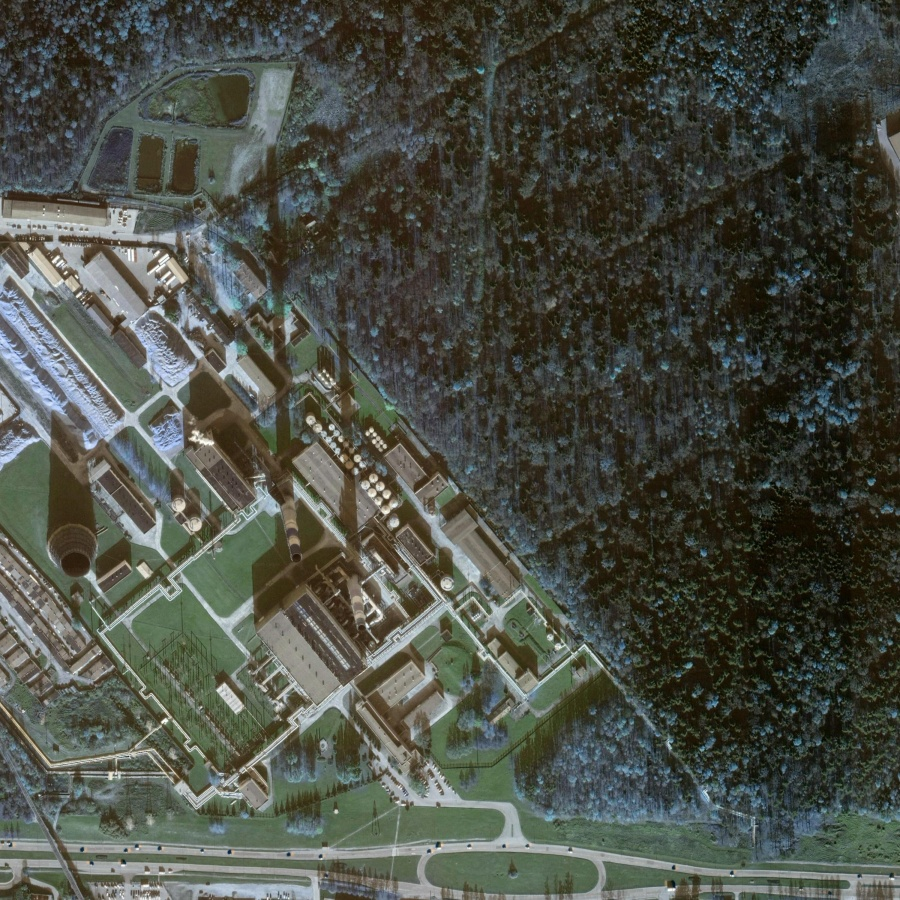PowerPlant: (22, 301, 558, 748)
